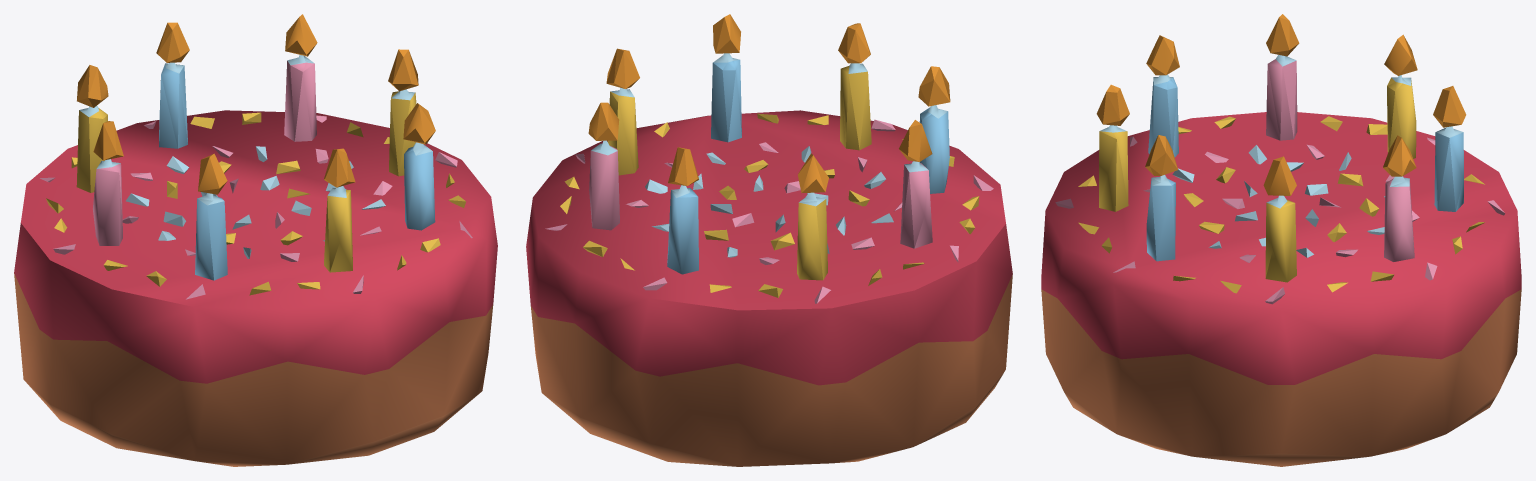
File: cake-birthday.glb
3 views of the same model, side by side, from view 1: azimuth 30°, elevation 25°; view 2: azimuth 150°, elevation 25°; view 3: azimuth 270°, elevation 25° (orthographic).
Parts seen in each view (by area): view 1: cake-birthday; view 2: cake-birthday; view 3: cake-birthday.
Part boxes in pixels (x1,y1,x2,y2): cake-birthday: (14,14,497,466); cake-birthday: (526,14,1012,466); cake-birthday: (1041,14,1521,466).
Bounding box in the file's own units: 0.2969 × 0.1981 × 0.2969.
